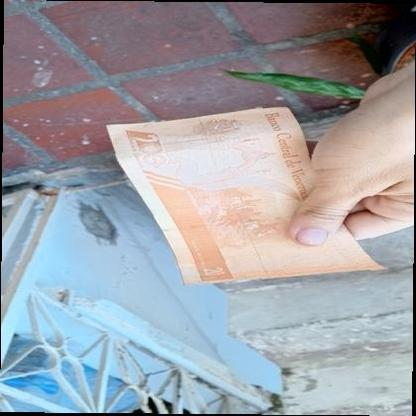twenty-back-vef: (106, 106, 388, 288)
